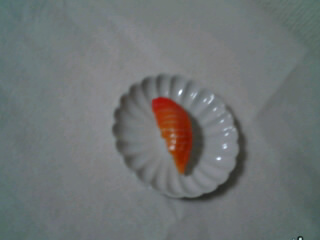002_classes: (140, 95, 198, 180)
